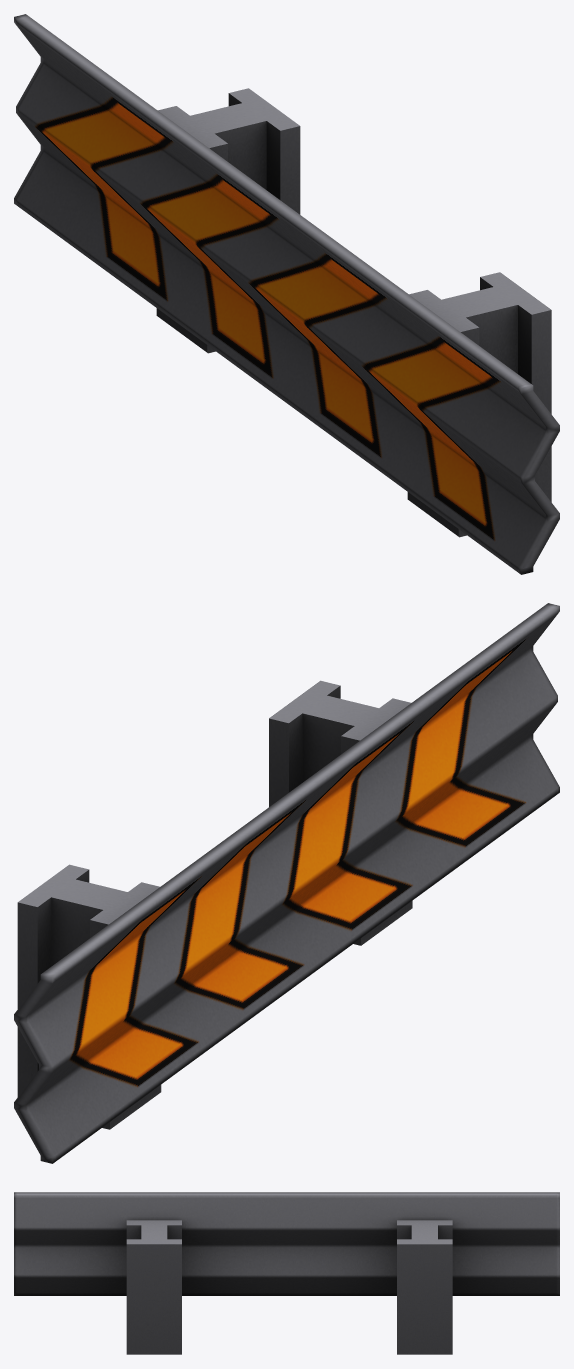
File: Barrier 1.FBX
3 views of the same model, one above another, from view 1: azimuth 30°, elevation 25°; view 2: azimuth 150°, elevation 25°; view 3: azimuth 270°, elevation 25° (orthographic). The views are drawn at different scales.
Parts seen in each view (by area): view 1: Barrier; view 2: Barrier; view 3: Barrier.
Part boxes in pixels (<box>): Barrier: <box>14,14,559,574</box>; Barrier: <box>14,603,559,1163</box>; Barrier: <box>14,1192,559,1354</box>.
Size of the model in its own units: 57.17 by 95.61 by 373.
1 material, 1 textured.
